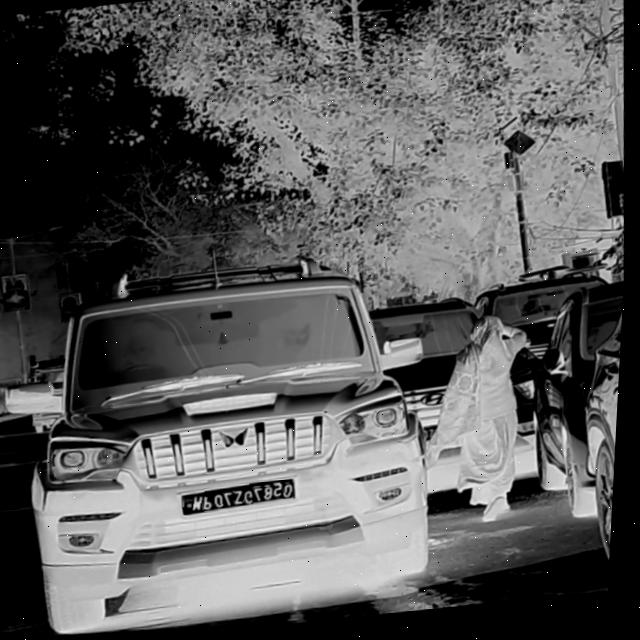0: (218, 495, 230, 512), (289, 486, 300, 502)
5: (279, 488, 289, 502)
7: (228, 494, 239, 509), (258, 490, 269, 505)
8: (268, 489, 280, 504)
G: (248, 492, 260, 508)
IND: (188, 498, 201, 511)
Indian_registered: (188, 482, 299, 517)
M: (198, 497, 210, 515)
P: (208, 496, 220, 514)
Z: (239, 492, 250, 508)
